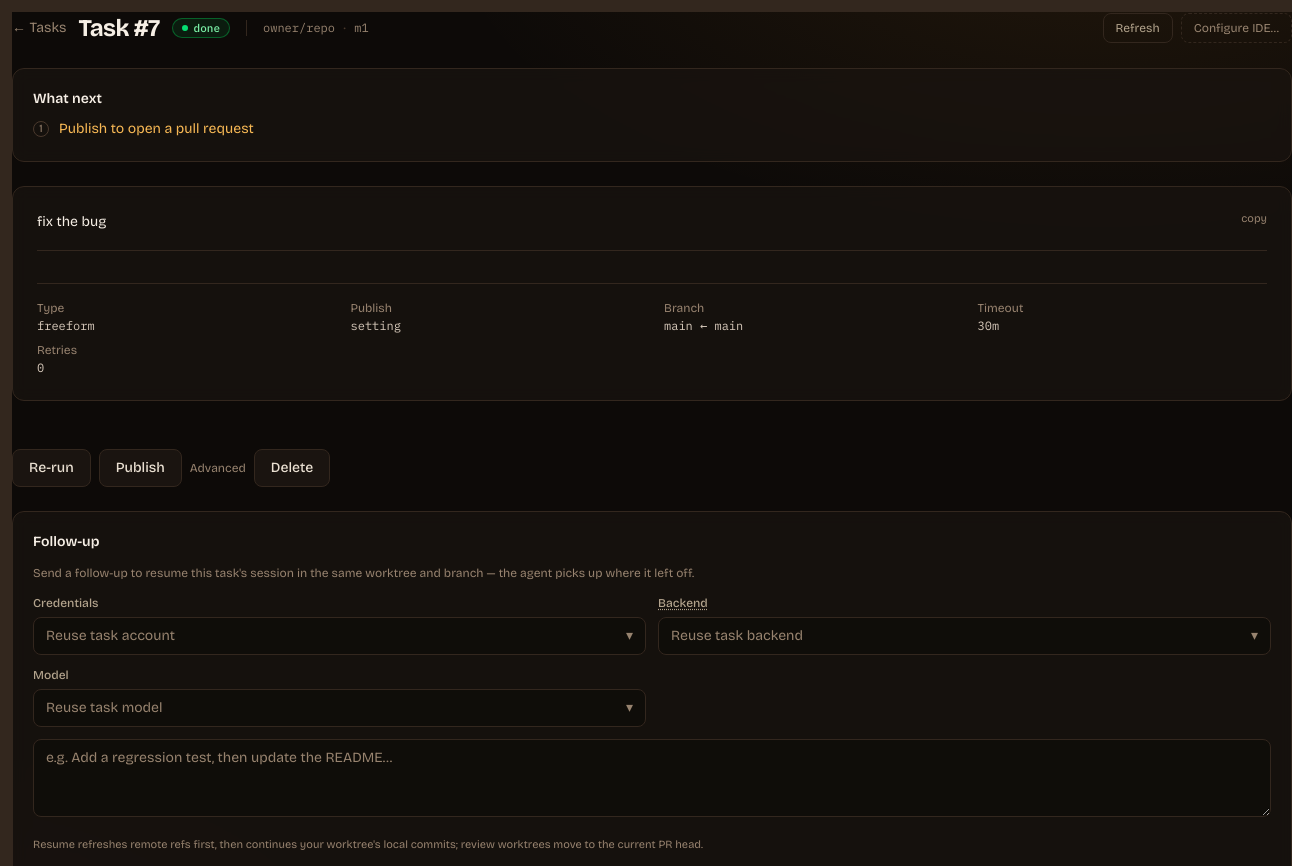
Test: TaskDetail › does NOT show the fresh-session note when picking 'Reuse task backend' on an unpinned task
Expected: the heading "Follow-up" is shown, x1=33 y1=533 x2=100 y2=550
Expected: the text "fresh session" is not shown
Click the button labelled "Reuse task backend ▾".
click(737, 636)  # box x1=658 y1=617 x2=1271 y2=655
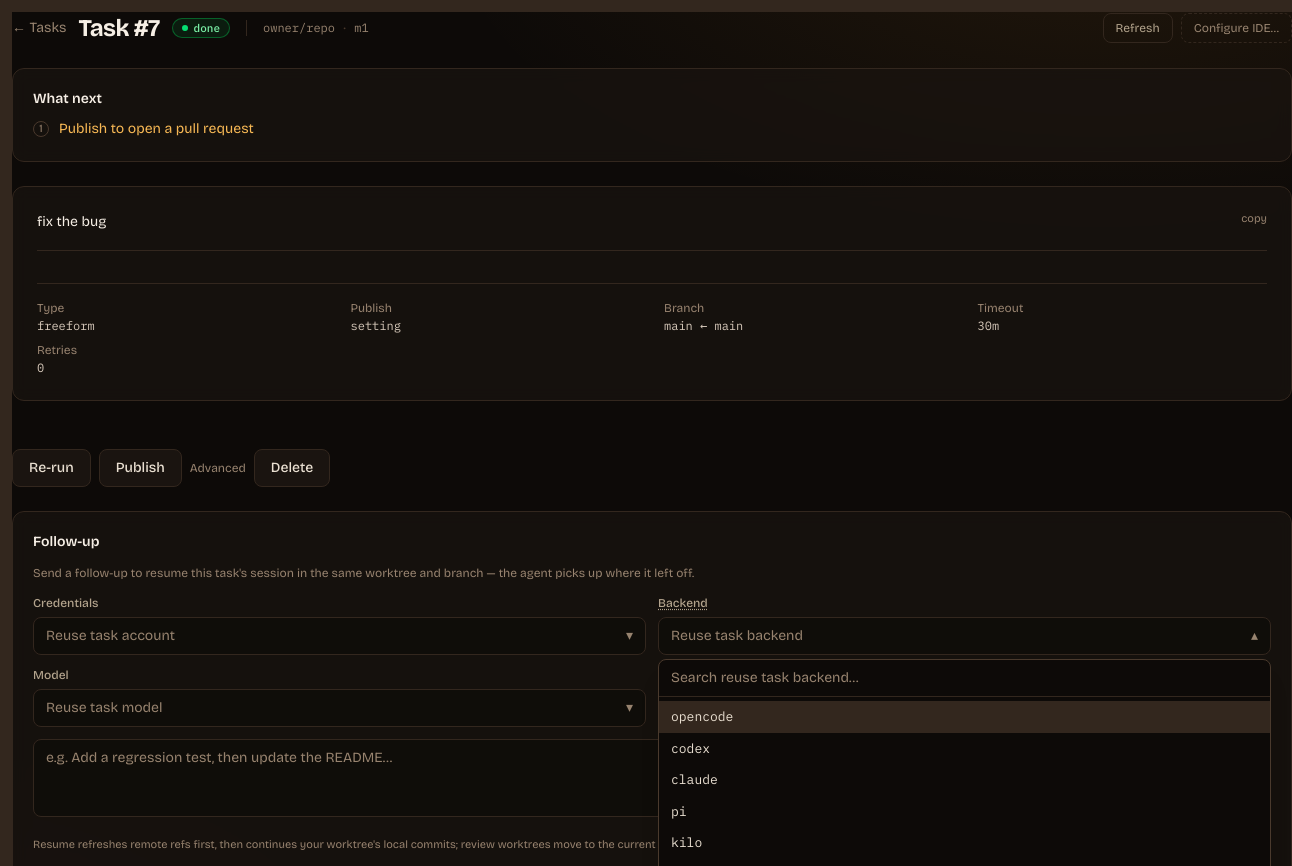
Type "opencode" into the dropdown.
click(964, 679); type("opencode")  # box x1=659 y1=660 x2=1270 y2=697
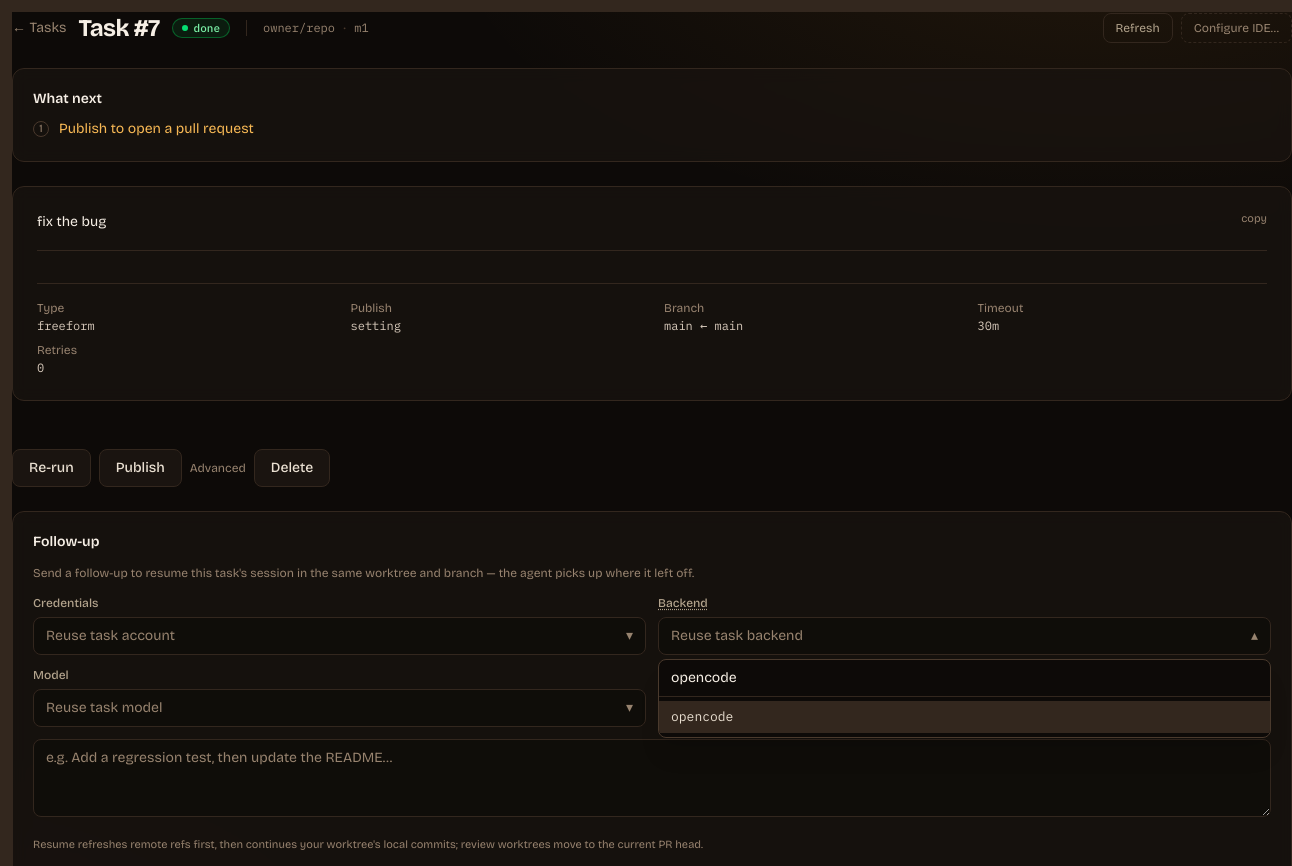
Click the option "opencode".
click(702, 717)  # box x1=659 y1=701 x2=1270 y2=733
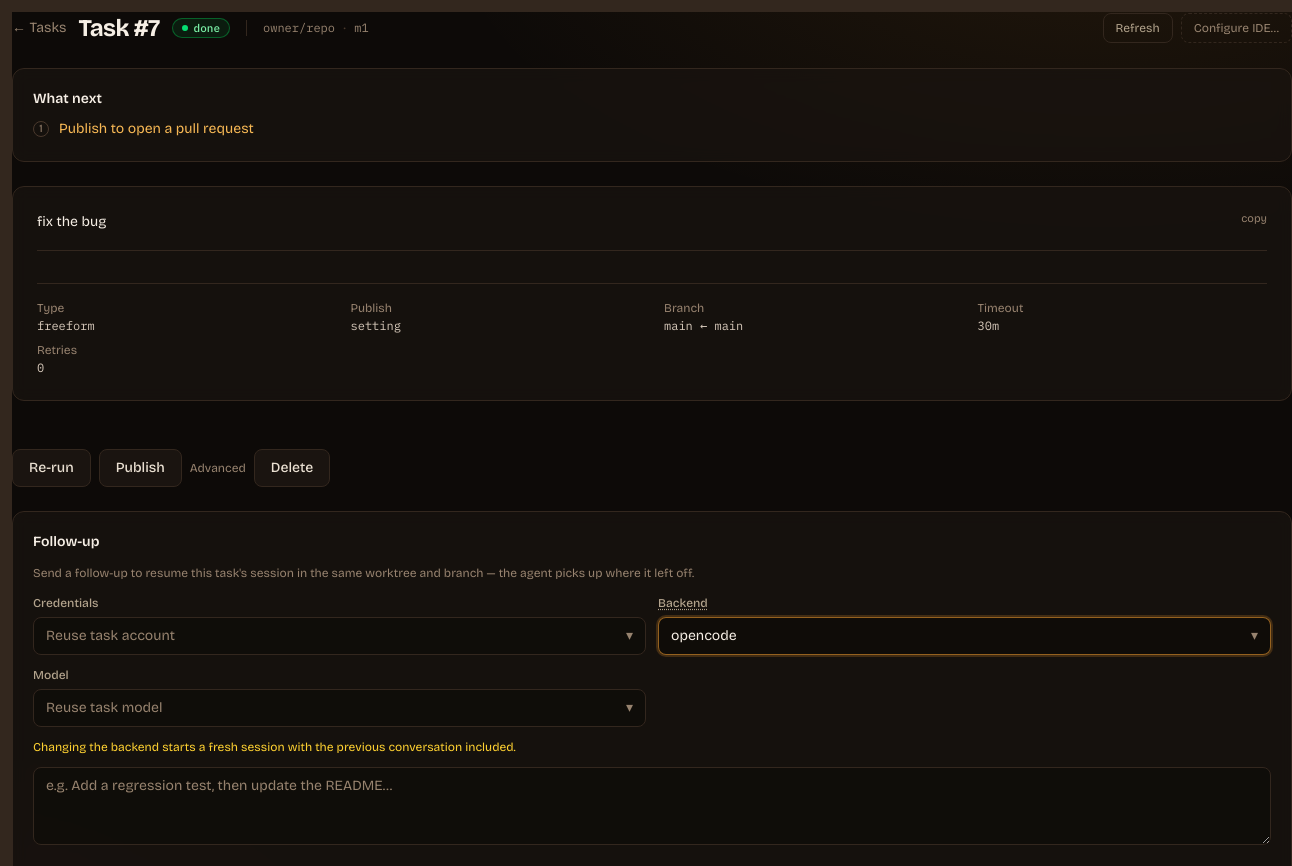
Now the text "fresh session" is shown, box x1=33 y1=740 x2=516 y2=754
